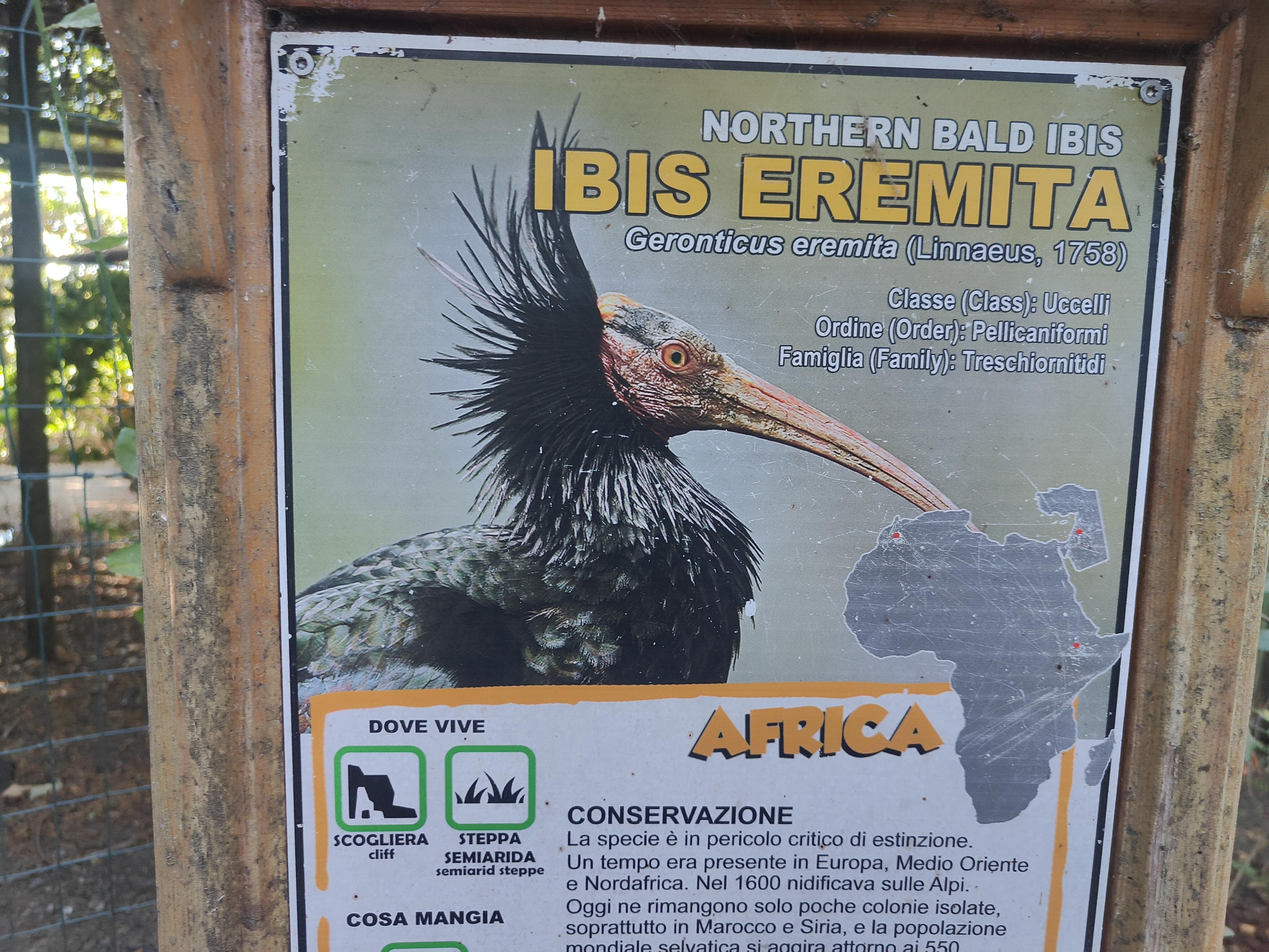apple: (297, 92, 978, 730)
